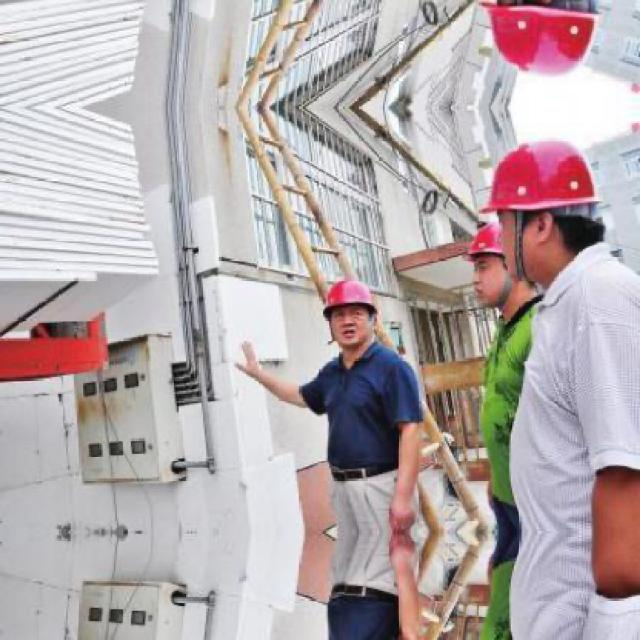helmet: (477, 128, 603, 288), (475, 0, 603, 86), (315, 271, 383, 355), (464, 215, 514, 303)
